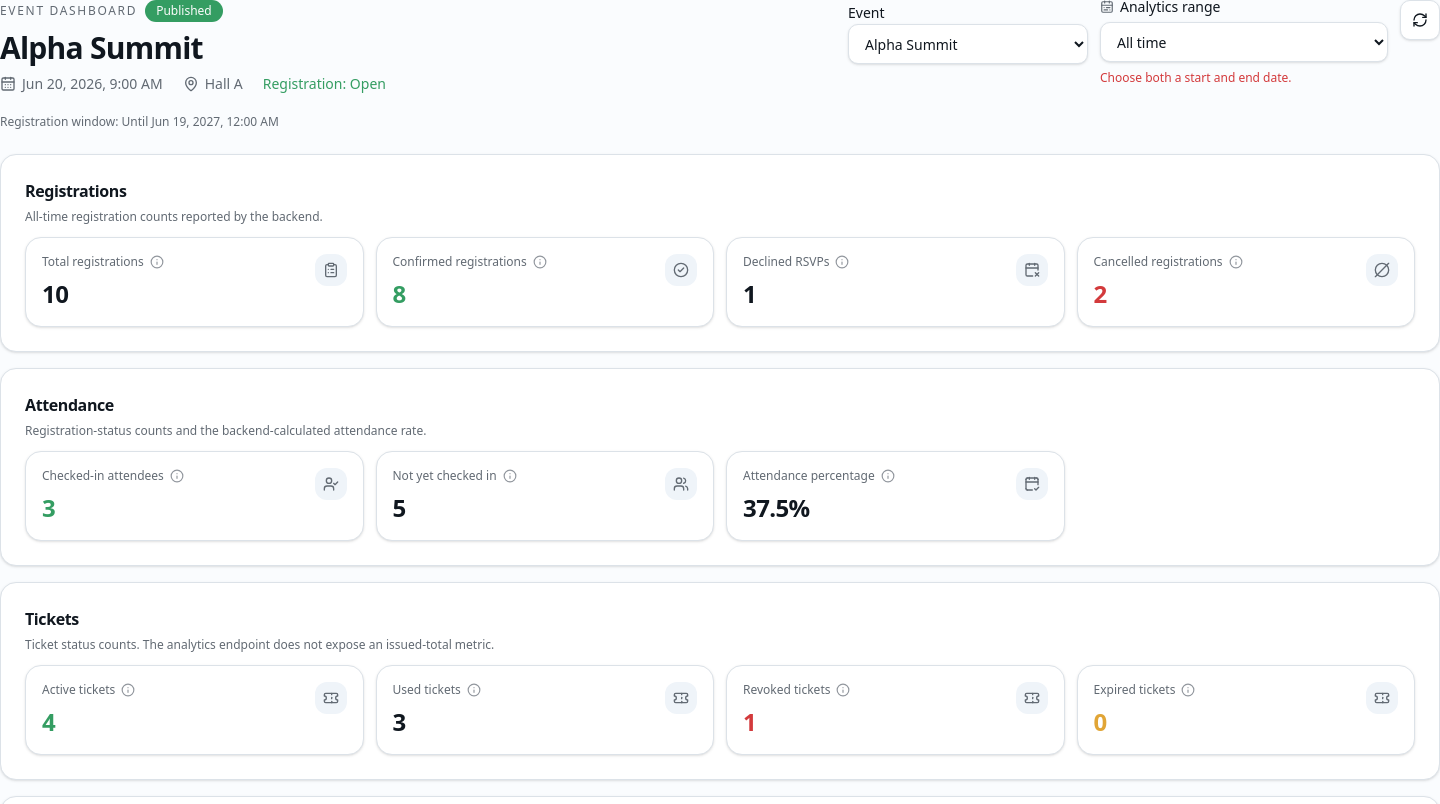
dashboard page integration › refetches analytics for the selected range when the date filter changes
Select "Last 30 days" in the dropdown labelled "Analytics range": {"x": 1244, "y": 42} [1100, 22, 1388, 62]
(page scrolled)
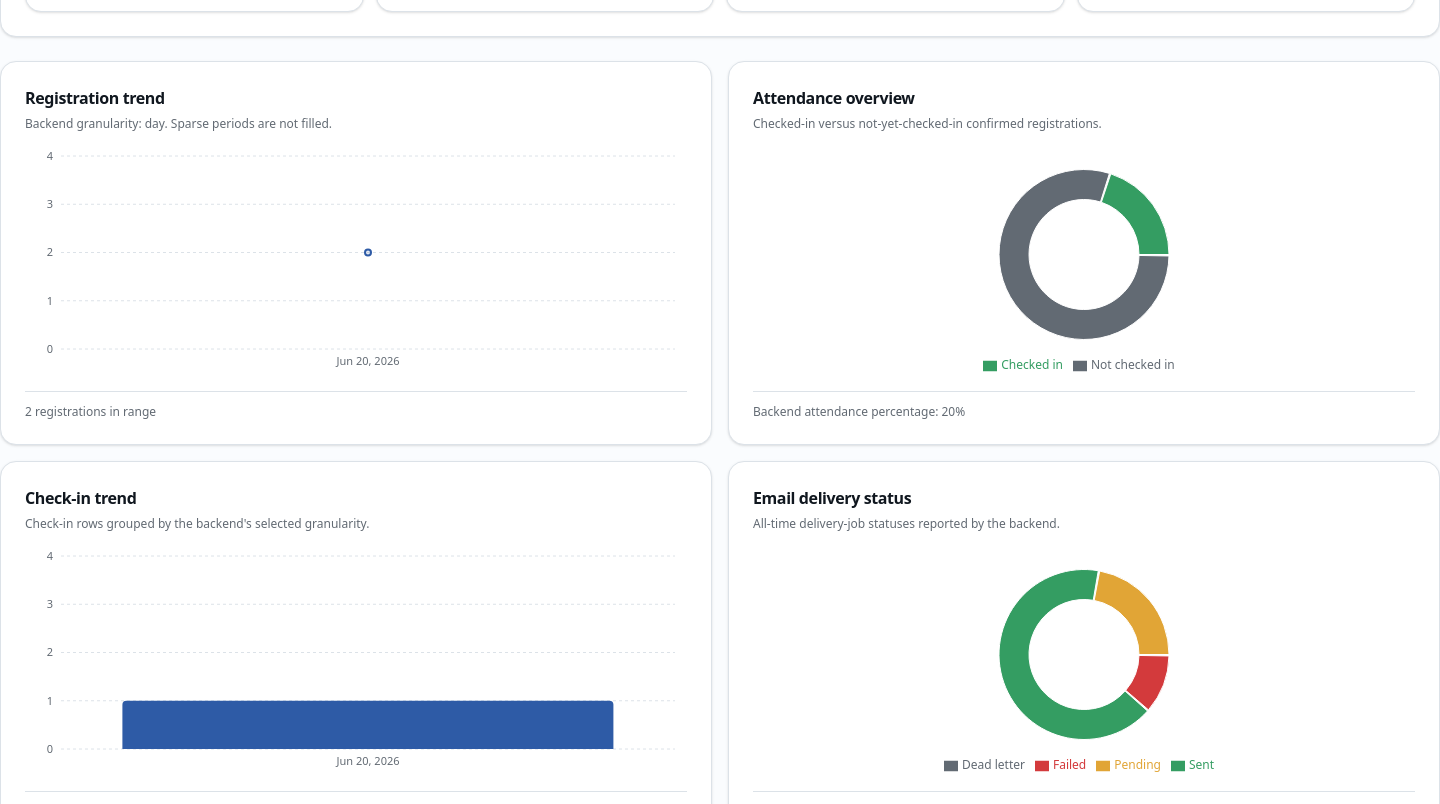
Result: the text "2 registrations in range" is shown at [25, 391, 687, 420]
